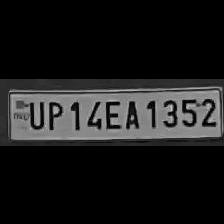1: (64, 97, 82, 130), (141, 96, 159, 128)
2: (198, 94, 218, 126)
3: (158, 95, 178, 127)
4: (82, 96, 102, 128)
5: (178, 94, 198, 126)
A: (122, 96, 142, 128)
E: (102, 96, 122, 128)
P: (44, 97, 64, 130)
U: (24, 96, 44, 128)
